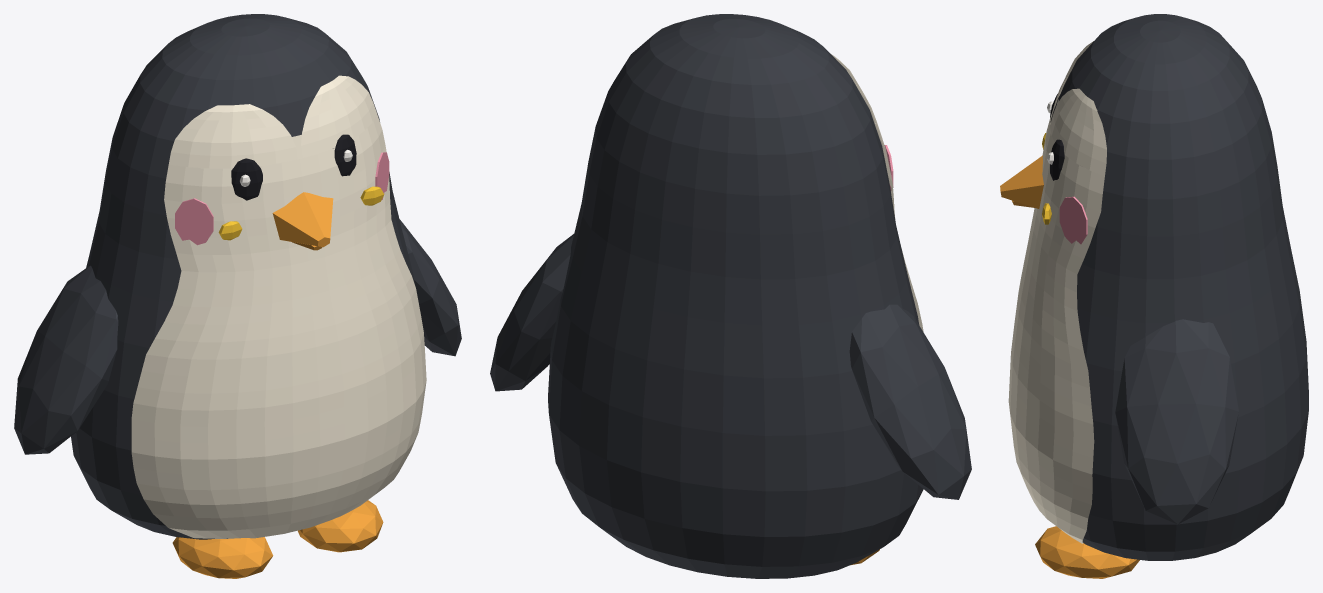
The model's file is pet_tuxedo.glb.
The picture shows the model from 3 angles, left to right: view 1: azimuth 30°, elevation 25°; view 2: azimuth 150°, elevation 25°; view 3: azimuth 270°, elevation 25°; orthographic projection. The views are drawn at different scales.
Visible parts, largest first — view 1: pet_tuxedo; view 2: pet_tuxedo; view 3: pet_tuxedo.
Part boxes in pixels (bbox=[...]): pet_tuxedo: bbox=[14, 14, 461, 578]; pet_tuxedo: bbox=[490, 14, 971, 578]; pet_tuxedo: bbox=[1000, 14, 1308, 578].
Size of the model in its own units: 0.4281 by 0.4797 by 0.2615.
